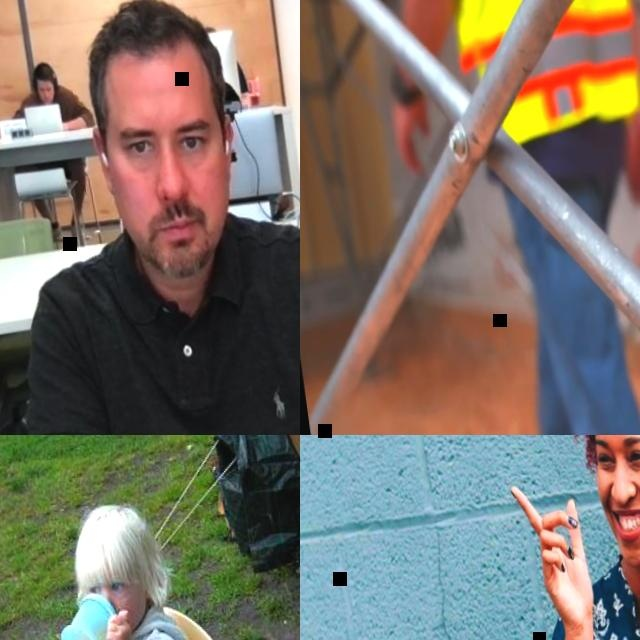NO-Hardhat: (79, 0, 212, 94), (66, 500, 162, 586), (29, 60, 54, 80)
NO-Mask: (131, 199, 225, 279), (602, 499, 640, 571), (101, 590, 150, 628), (39, 88, 53, 101)
NO-Safety Vest: (72, 237, 300, 435), (30, 86, 73, 124)
Person: (0, 0, 300, 435), (369, 0, 640, 435), (0, 495, 233, 640), (480, 435, 640, 640), (3, 55, 108, 242), (203, 21, 250, 94)
Safety Vest: (447, 0, 640, 145)
